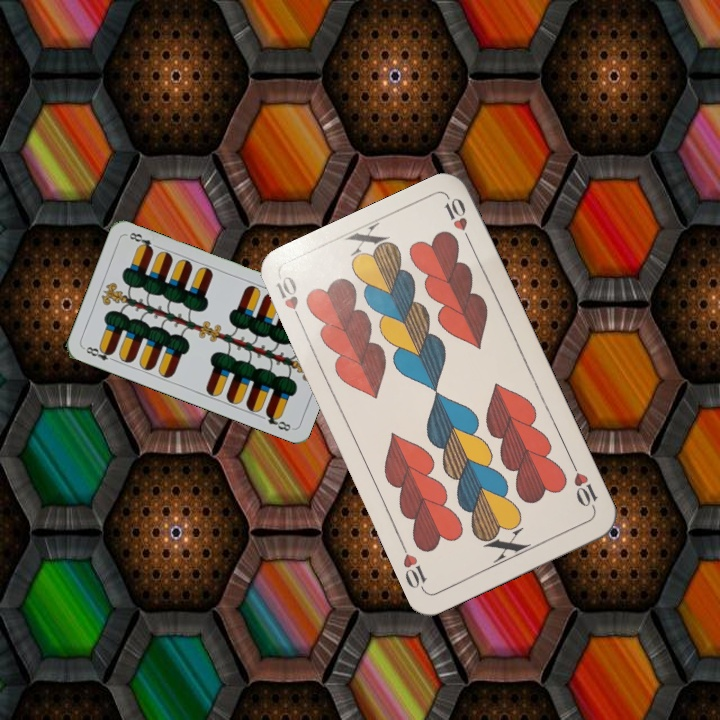E8: (80, 342, 119, 364)
H10: (272, 271, 306, 329), (567, 458, 600, 513)
